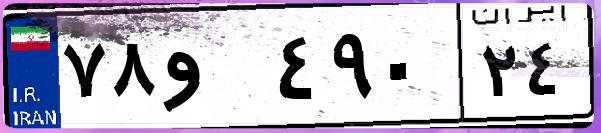0: (385, 28, 445, 110)
2: (475, 38, 525, 113)
4: (270, 28, 330, 110), (525, 38, 570, 115)
7: (57, 26, 110, 100)
8: (110, 28, 158, 98)
9: (330, 28, 385, 110)
و: (158, 20, 270, 120)
